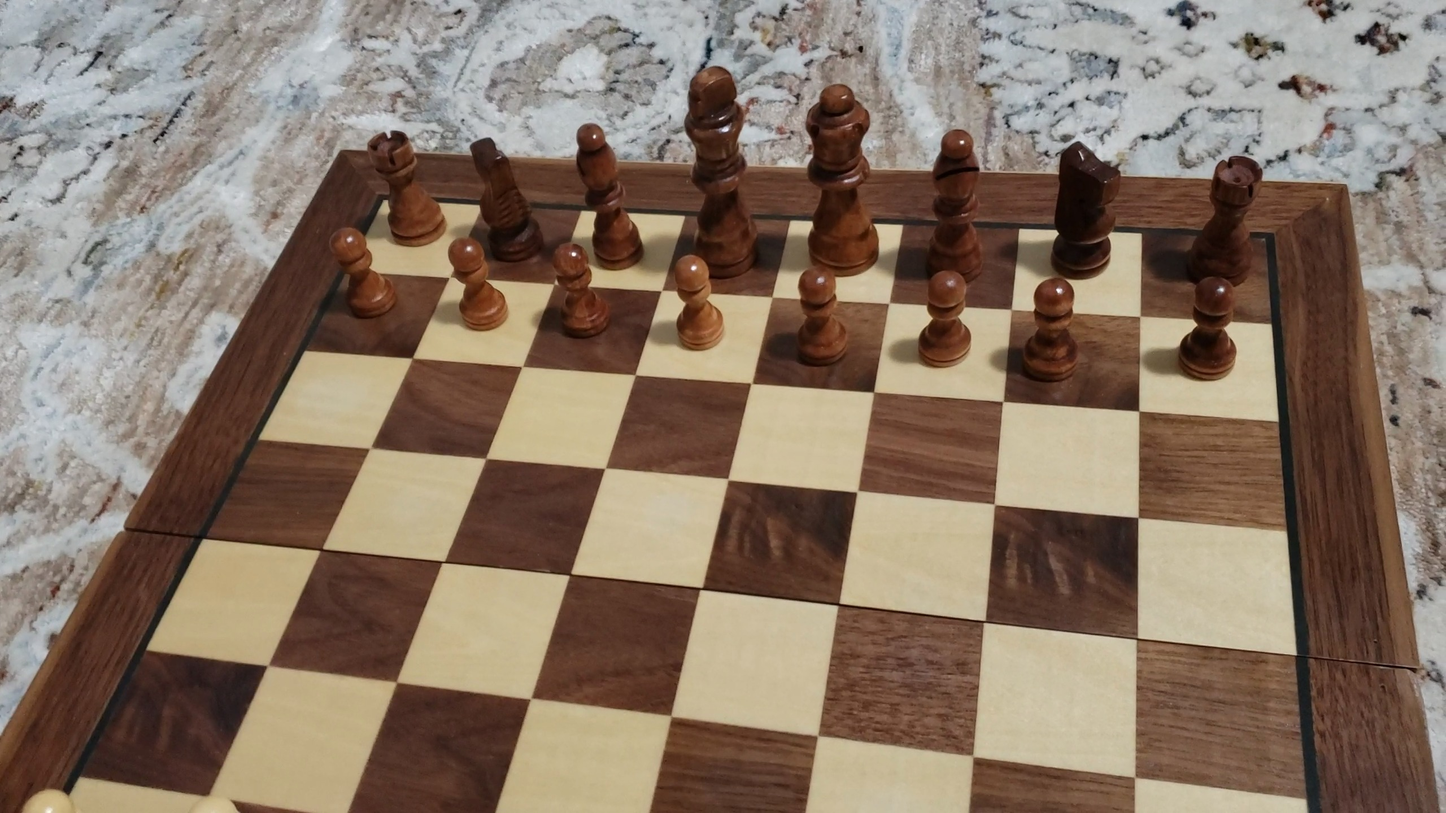black-bishop: (574, 120, 642, 268), (926, 126, 985, 282)
black-king: (681, 60, 758, 279)
black-knight: (1051, 138, 1123, 277), (469, 134, 539, 261)
black-pawn: (1177, 274, 1240, 382), (1020, 274, 1081, 384), (327, 225, 396, 321), (548, 240, 610, 340), (445, 237, 509, 333), (792, 266, 850, 369), (668, 252, 725, 353), (917, 269, 972, 368)
black-queen: (799, 79, 883, 275)
black-rook: (1182, 154, 1264, 286), (367, 129, 446, 244)
